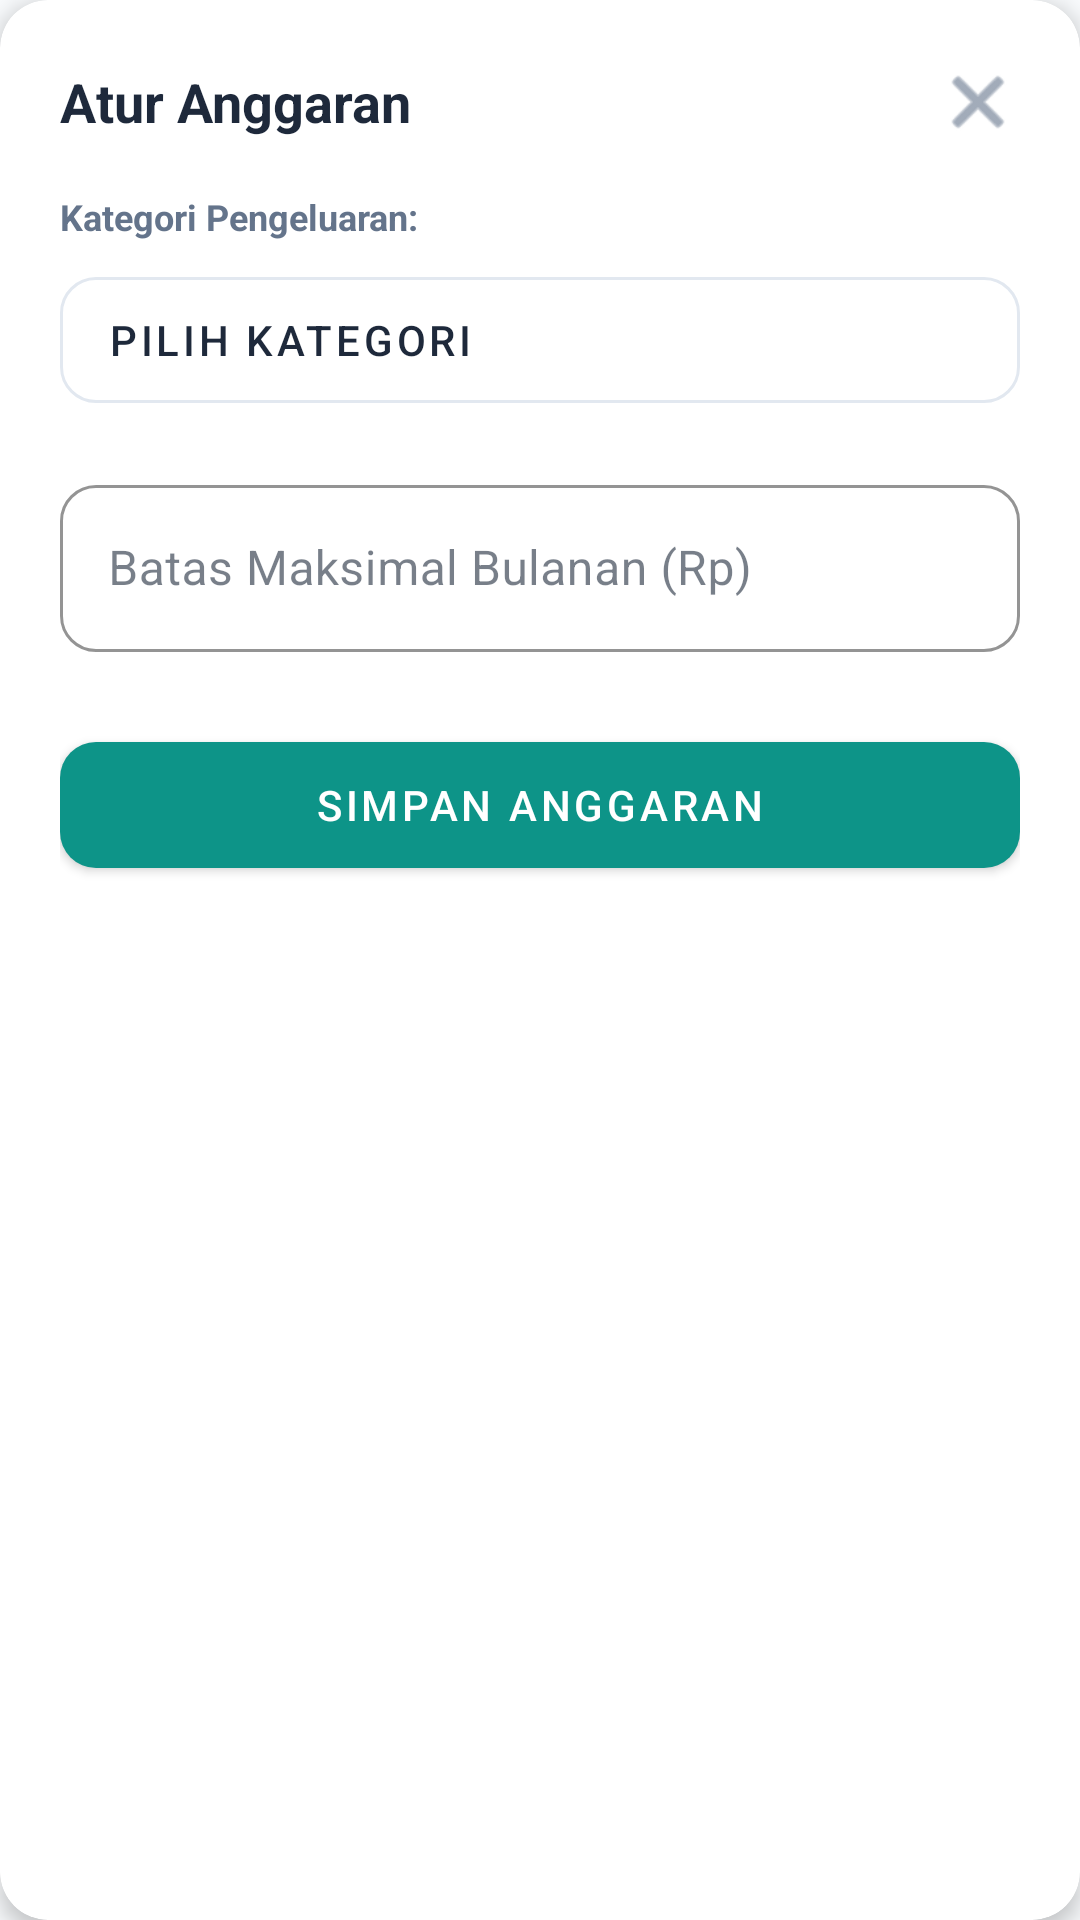

Icons on this 1080×1920 Android screen, each with the point to tap as [x,y]:
close clear cancel: [978,102]
